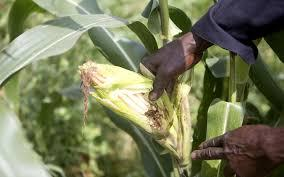fallarmy_worm: (144, 106, 164, 129)
